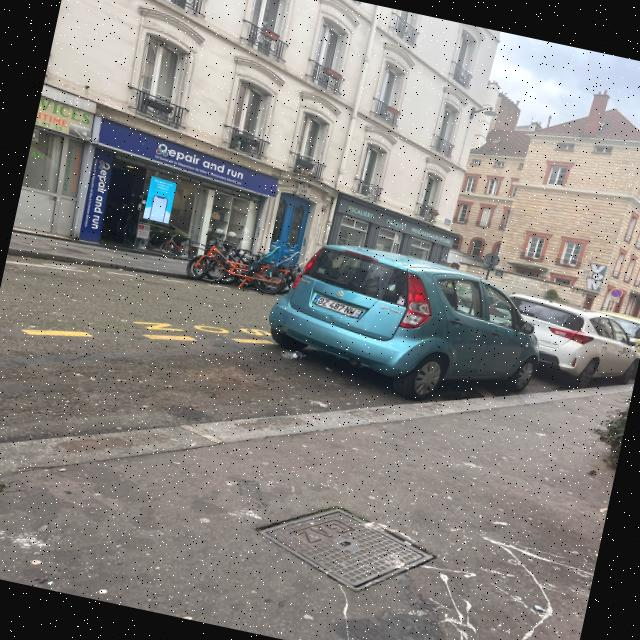Autre: (308, 286, 370, 324)
